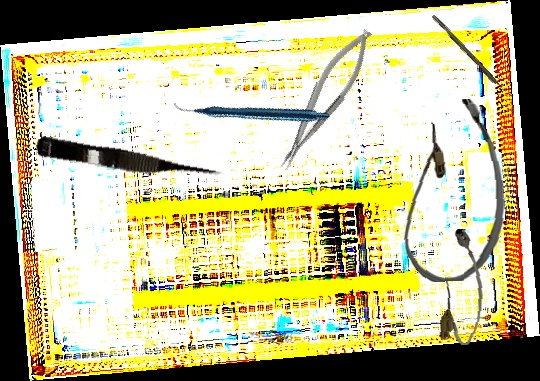Cannula: (396, 97, 509, 284), (438, 227, 489, 347)
Handpiece: (173, 34, 330, 186)
Hook Surgical: (431, 13, 508, 96)
Micro Scissor: (34, 135, 226, 189)
Needle Holder: (265, 22, 384, 176)
